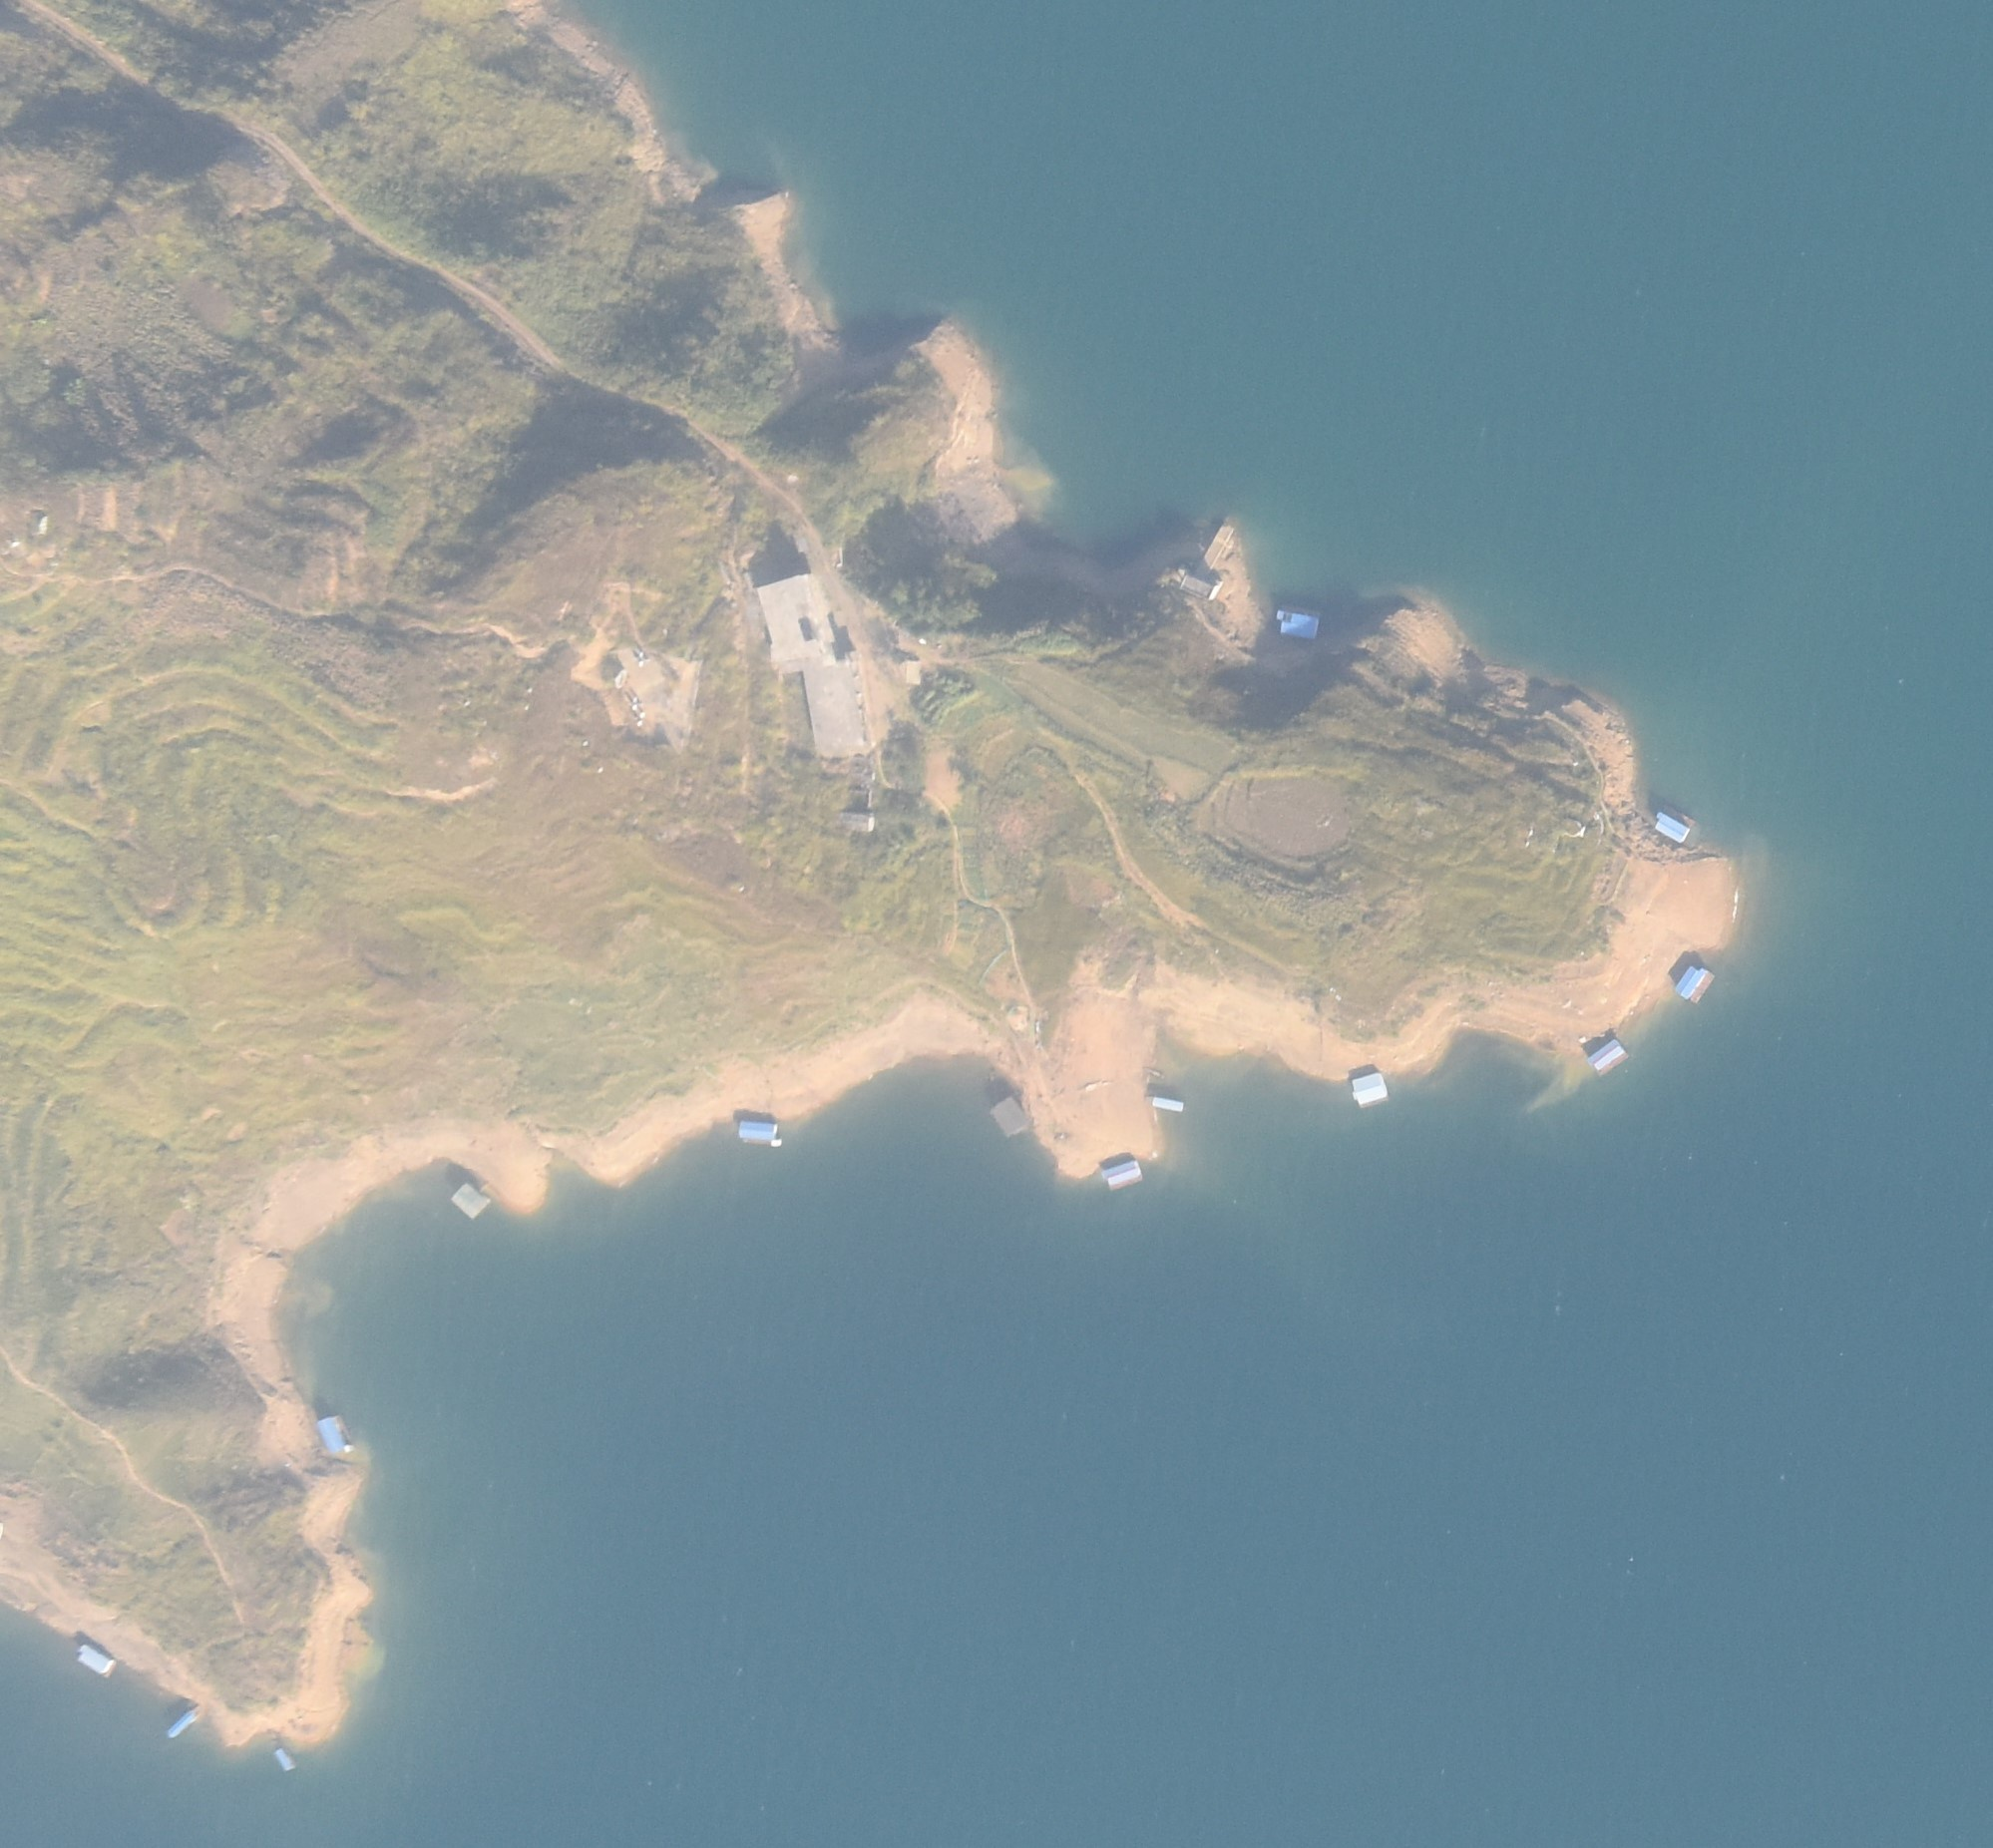building: (757, 574, 829, 674), (804, 663, 870, 757), (613, 644, 668, 706), (834, 786, 879, 835), (1200, 515, 1233, 575), (1176, 570, 1218, 602), (901, 657, 923, 683), (794, 531, 811, 552)
prefabricated-house: (989, 1094, 1027, 1141), (449, 1179, 490, 1222), (1272, 606, 1321, 638), (78, 1638, 112, 1682), (315, 1412, 352, 1453), (1585, 1037, 1625, 1074), (1674, 966, 1711, 1004), (1351, 1073, 1391, 1107), (1099, 1158, 1143, 1188), (734, 1117, 782, 1144), (1654, 811, 1689, 843), (167, 1708, 198, 1741), (274, 1741, 294, 1774)
ship: (1146, 1093, 1184, 1114), (1148, 1066, 1166, 1082)
